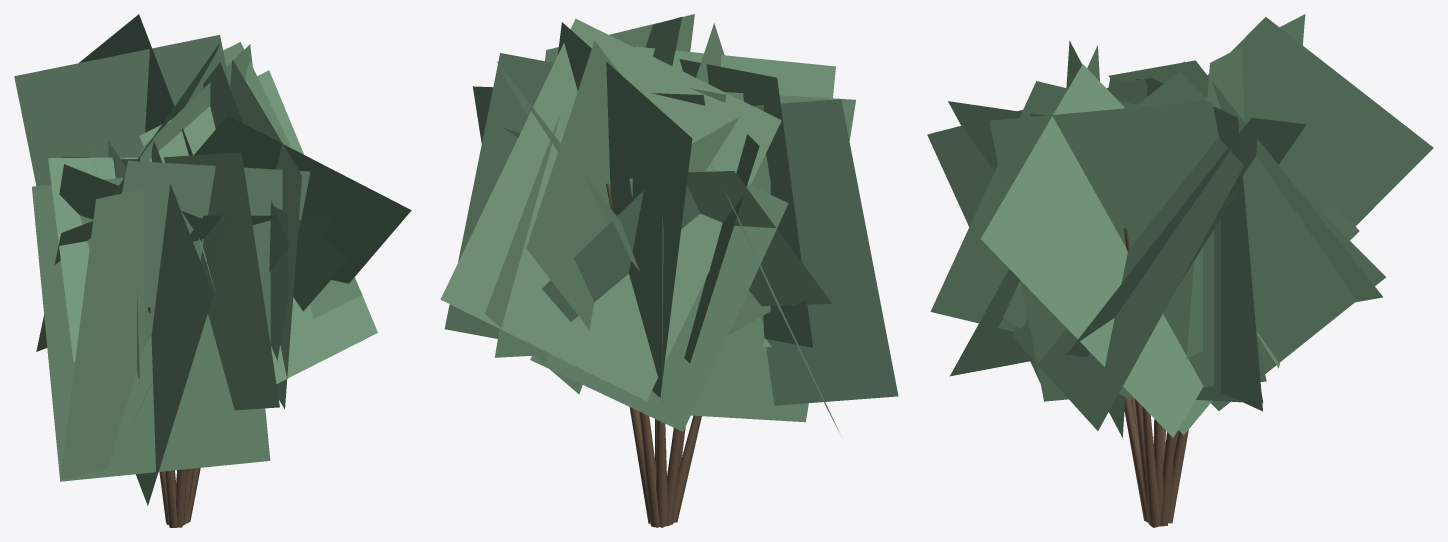
The model's file is juniper.glb.
3 renders of one model, left to right at view 1: azimuth 30°, elevation 25°; view 2: azimuth 150°, elevation 25°; view 3: azimuth 270°, elevation 25°, orthographic. The views are drawn at different scales.
Visible parts, largest first — view 1: Foliage, juniper; view 2: Foliage, juniper; view 3: Foliage, juniper.
Boxes of the visible parts, x1=… form: Foliage: x1=14, y1=14, x2=411, y2=505; juniper: x1=147, y1=306, x2=200, y2=527; Foliage: x1=440, y1=14, x2=898, y2=434; juniper: x1=606, y1=183, x2=701, y2=527; Foliage: x1=927, y1=14, x2=1433, y2=437; juniper: x1=1123, y1=227, x2=1188, y2=527.
Bounding box in the file's own units: 2.04 × 2.7 × 2.42.
